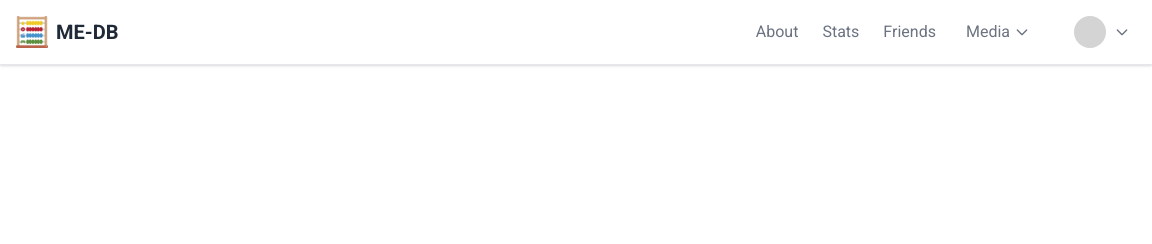
Navbar › clicking Media button shows Anime link in dropdown
Click the button "Media" at (998, 32), box [960,18,1036,46]
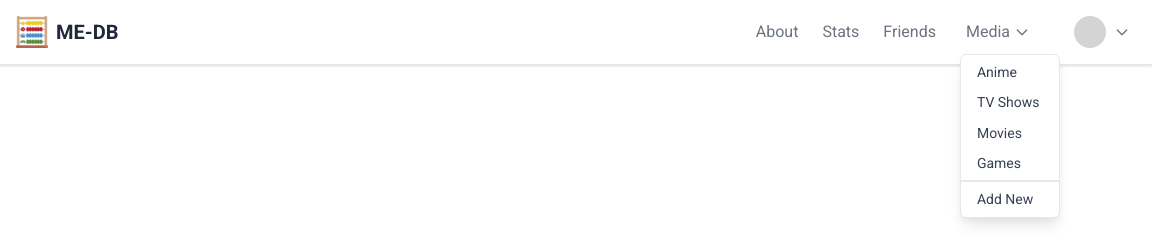
Result: the link "Anime" is shown at [977,64,1017,80]
